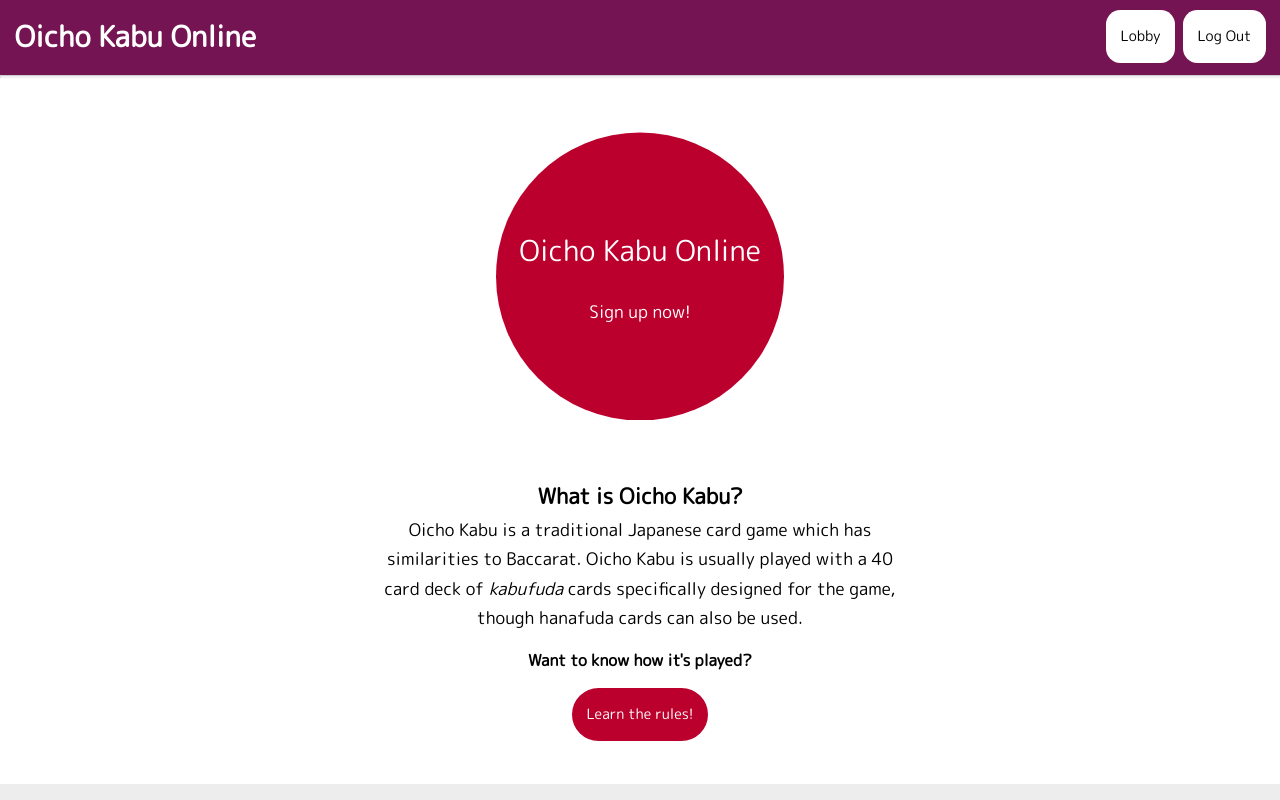
Test: Navbar › directs to front page when 'Oicho Kabu Online' clicked
Step 1. Click the link "Lobby" → click(1141, 37), box [1106, 10, 1175, 63]
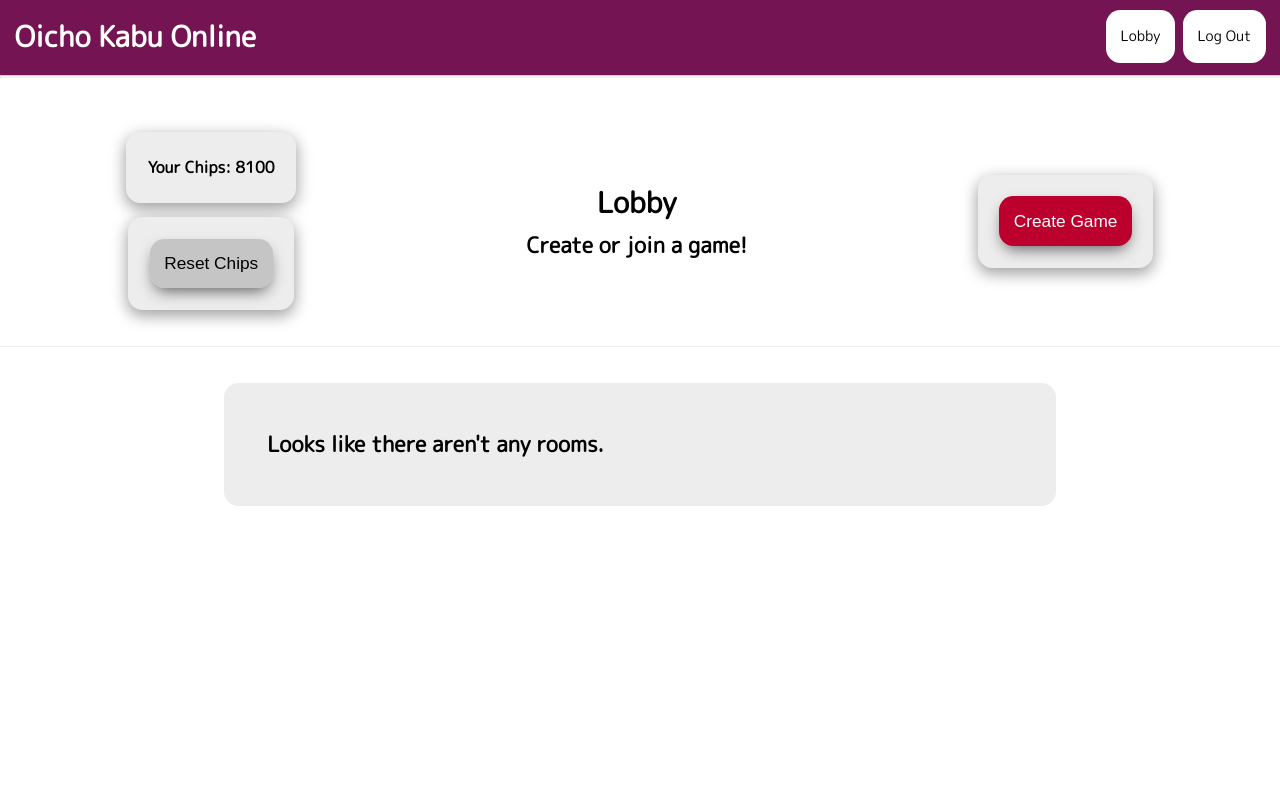
Expected: the heading "Create or join a game!" is shown, [527, 227, 747, 264]
Step 2. Click the link "Oicho Kabu Online" → click(135, 36), box [14, 16, 256, 56]
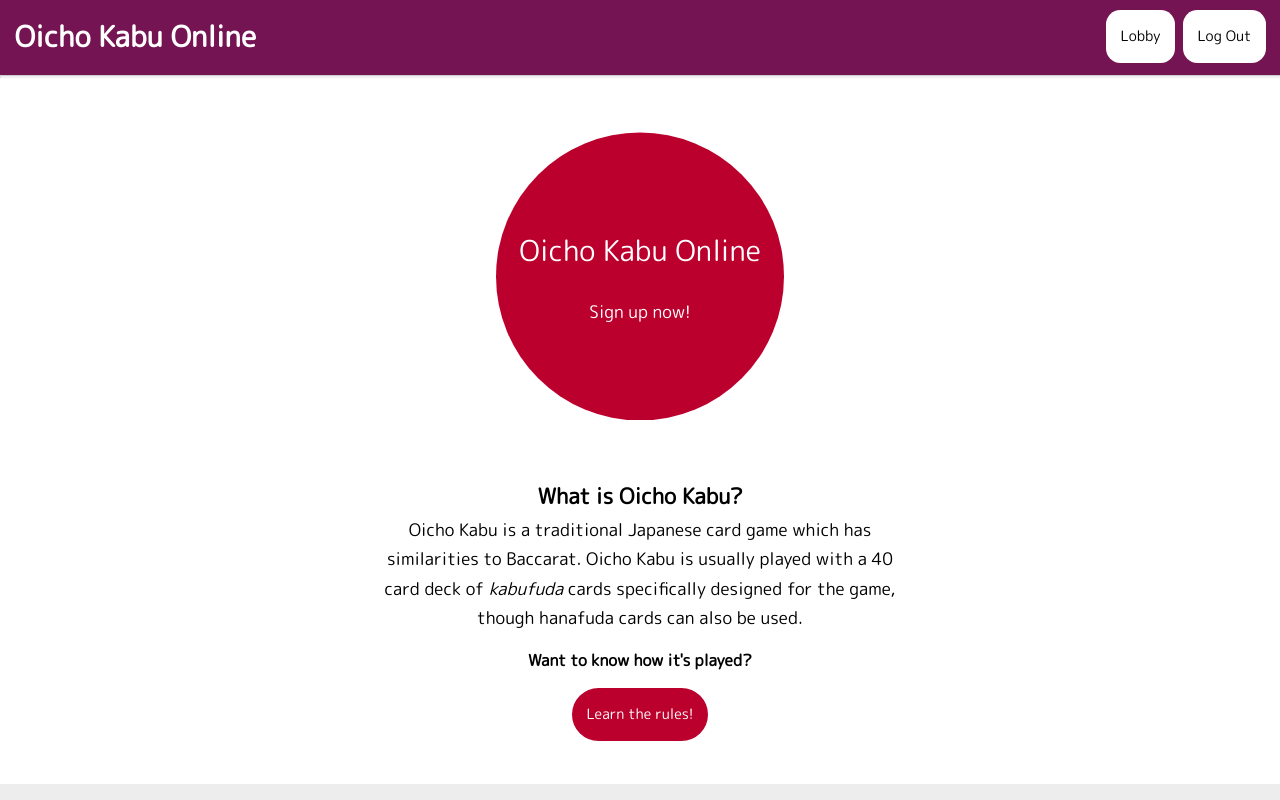
Expected: the heading "What is Oicho Kabu?" is shown, [537, 481, 743, 511]
